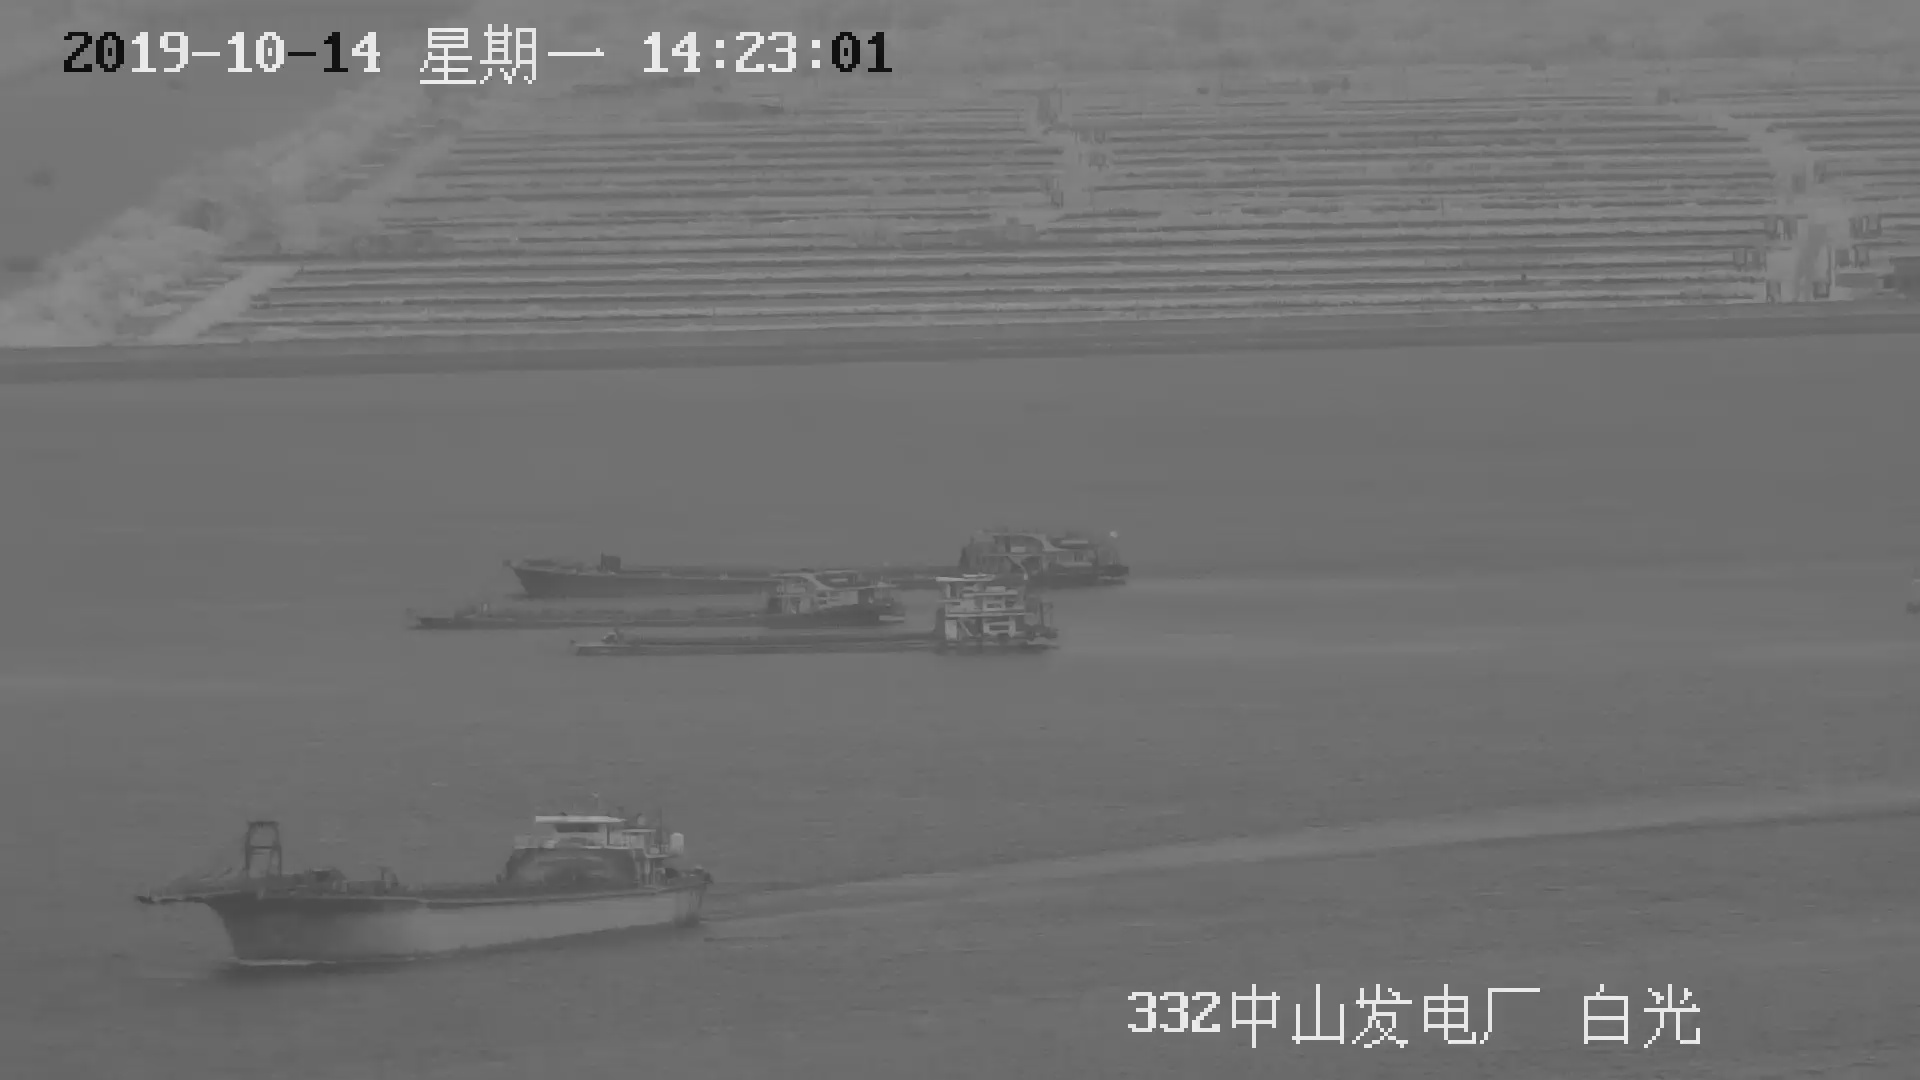ship: (138, 794, 705, 978), (575, 575, 1059, 665), (505, 531, 1135, 593), (417, 567, 899, 634)
